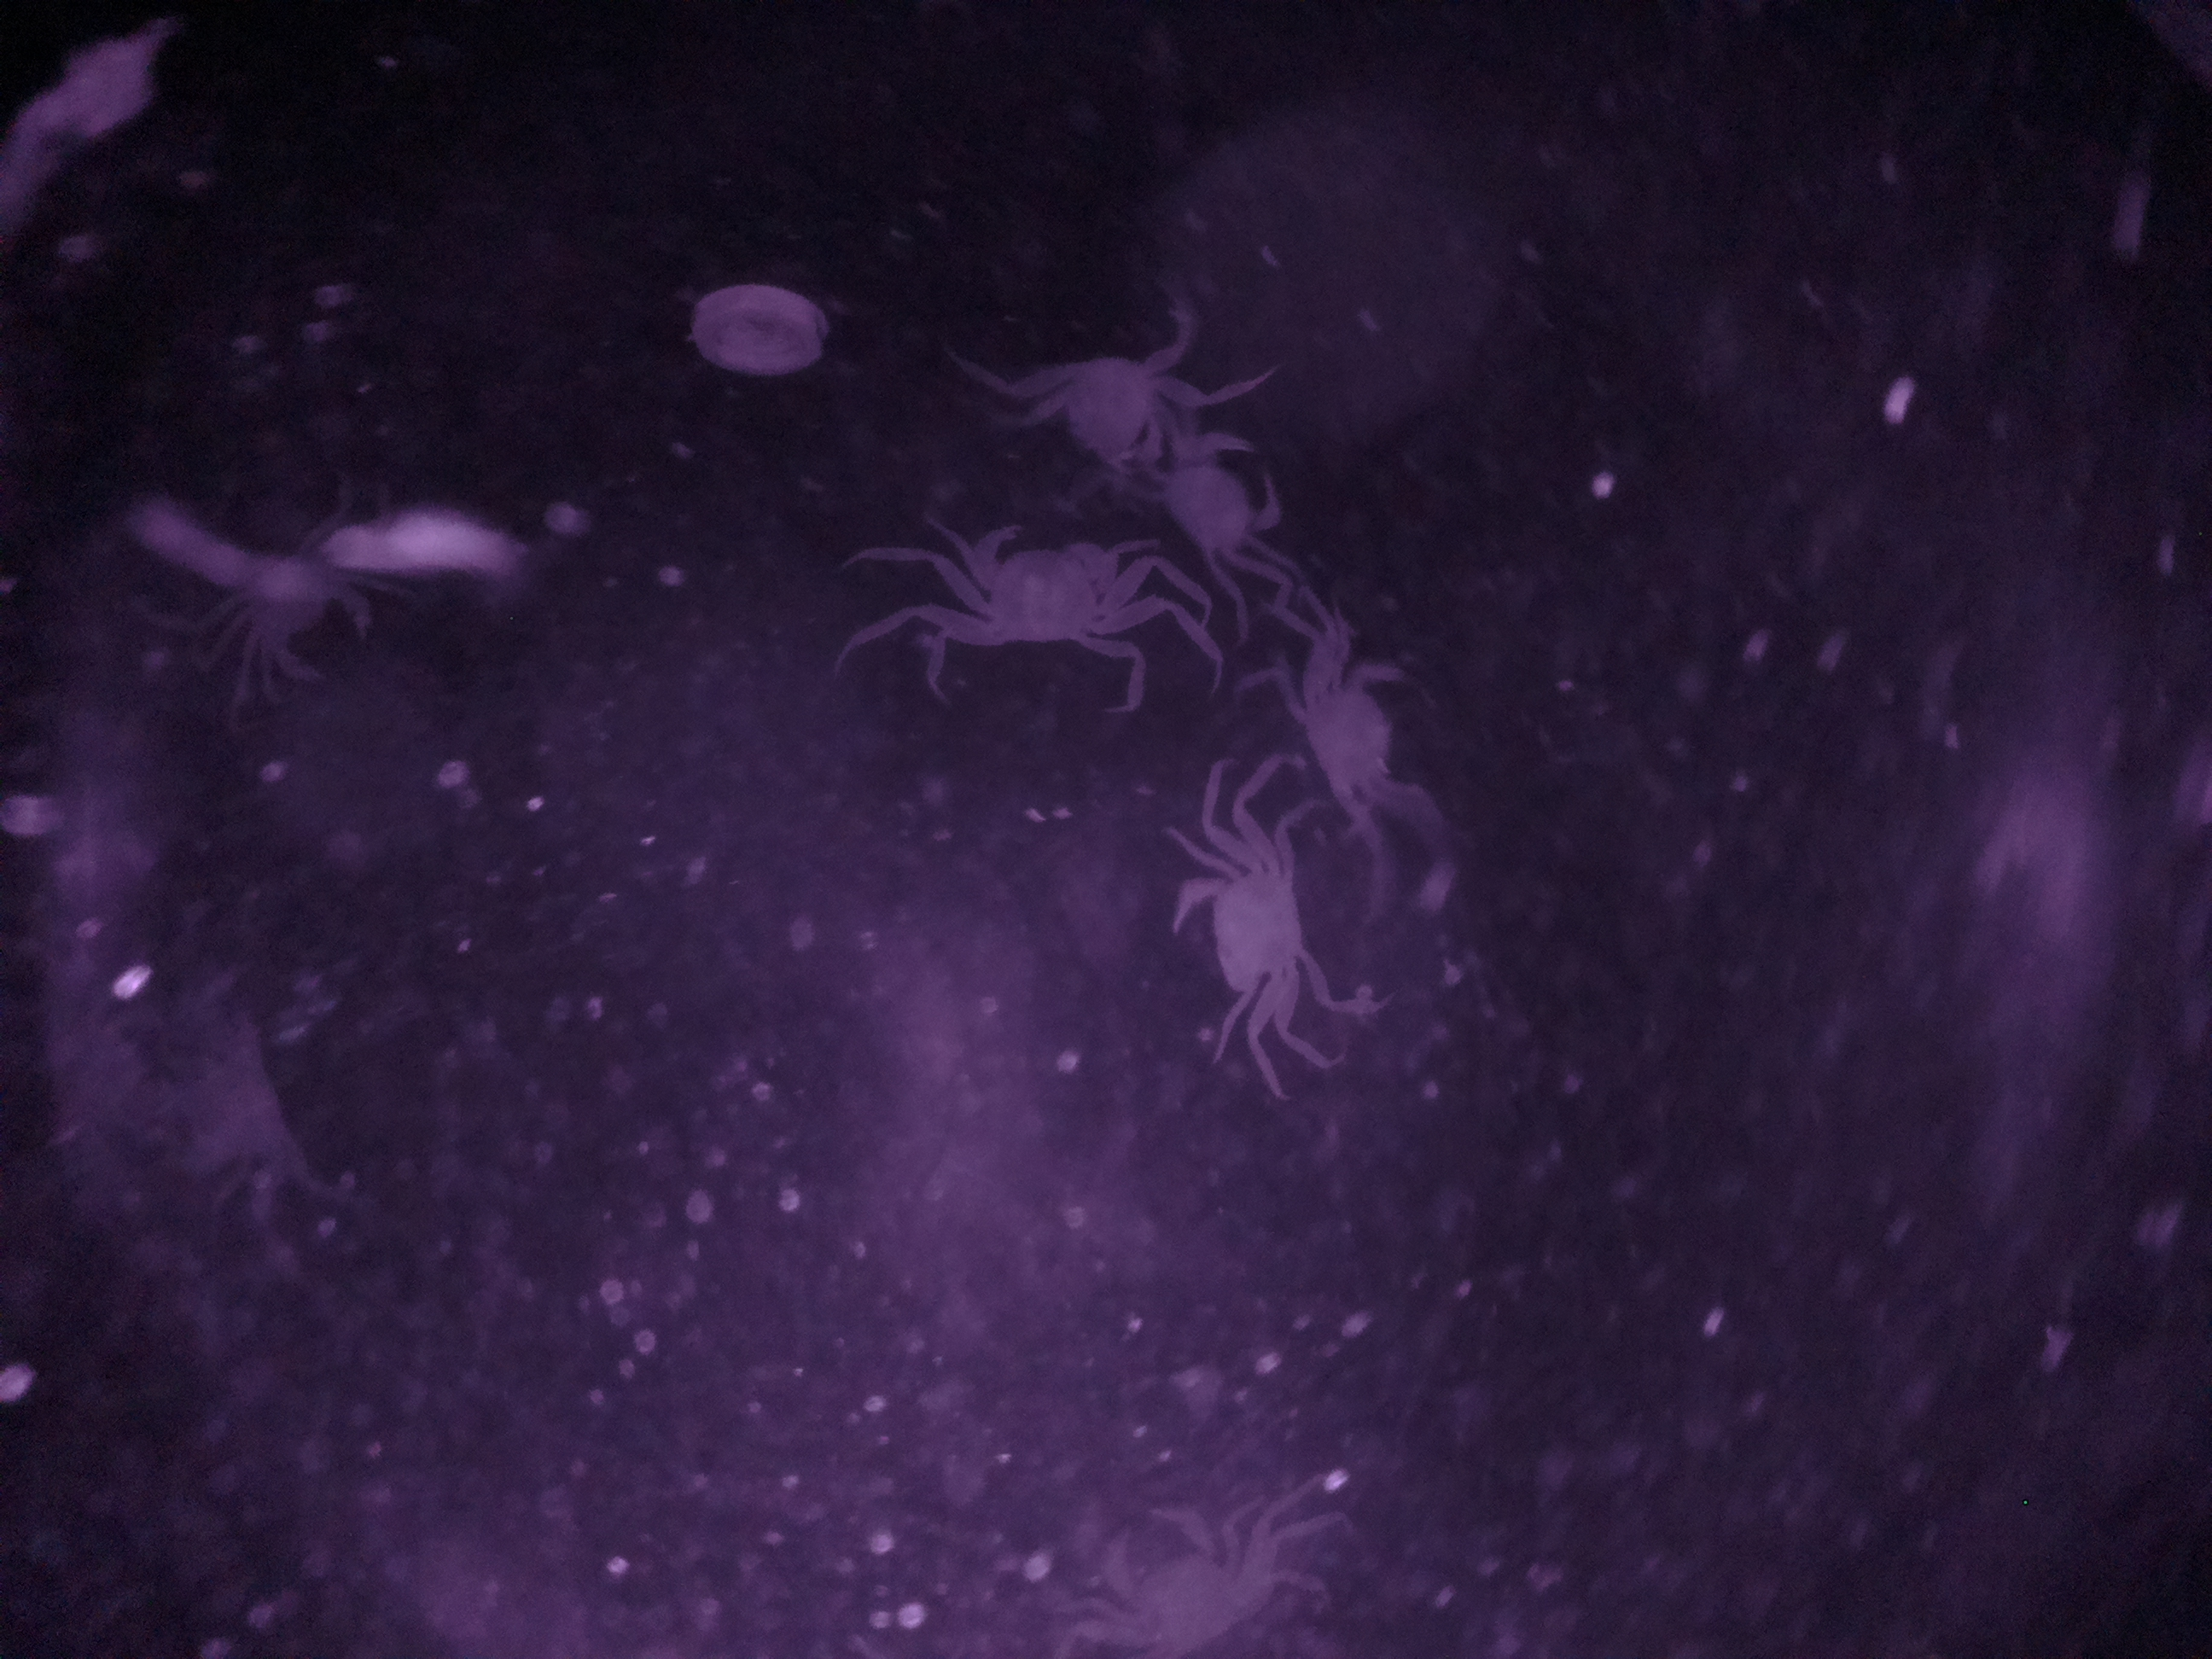Crab: (928, 518, 1183, 695), (1158, 796, 1325, 1061), (1061, 1492, 1284, 1659)
